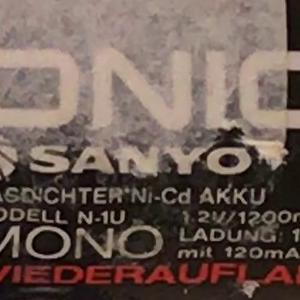keyword: (115, 179, 200, 205)
